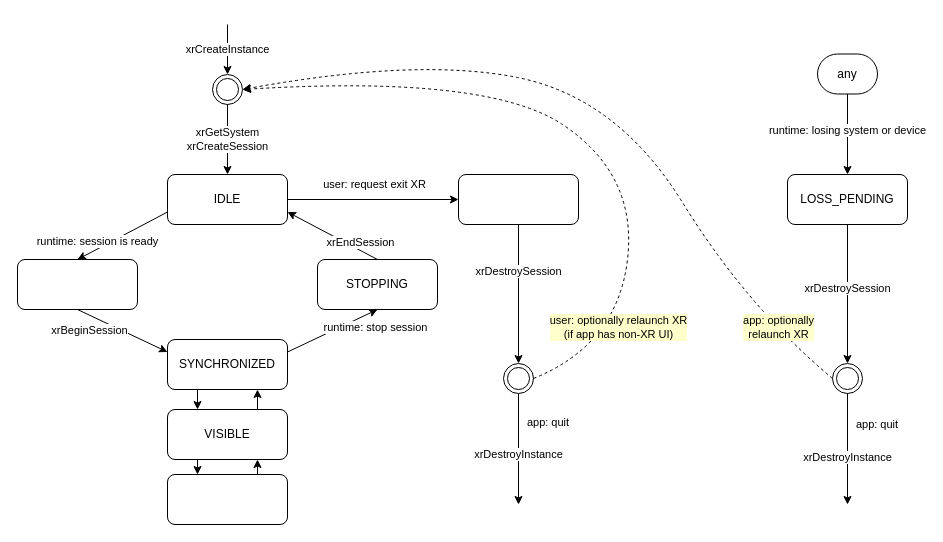
Image size: 943x542. Some labels were removed from this diagram. Here are the shapes that lost their labels. From the top down, the centre of each, then its label:
At point 518,199: "EXITING".
At point 77,284: "READY".
At point 227,499: "FOCUSED".
